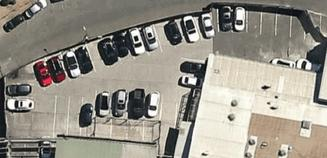parkingspot: (32, 11, 217, 92), (53, 89, 163, 143), (217, 7, 307, 42), (0, 0, 49, 37), (5, 83, 35, 139), (179, 59, 208, 89)
